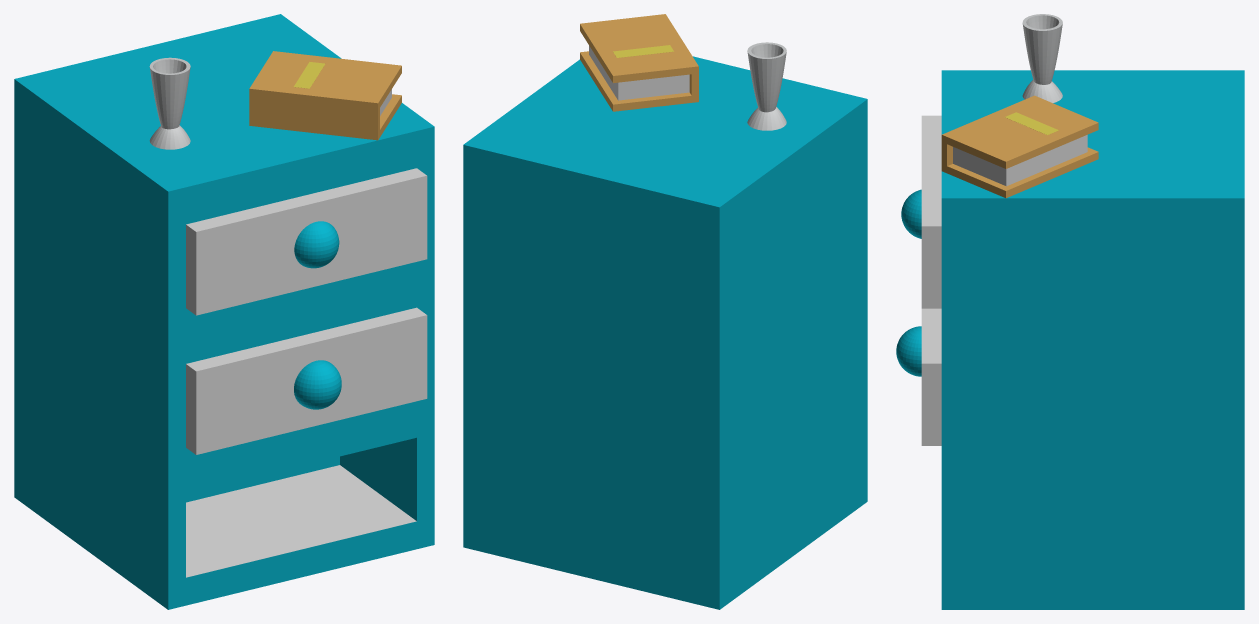
File: anotsonormaltable.glb
3 renders of one model, left to right at view 1: azimuth 30°, elevation 25°; view 2: azimuth 150°, elevation 25°; view 3: azimuth 270°, elevation 25°, orthographic. The views are drawn at different scales.
Parts seen in each view (by area): view 1: Mesh_Mesh_head_geo.001_lambert2SG.001; view 2: Mesh_Mesh_head_geo.001_lambert2SG.001; view 3: Mesh_Mesh_head_geo.001_lambert2SG.001.
Boxes of the visible parts, x1,y1,x2,y2 form: Mesh_Mesh_head_geo.001_lambert2SG.001: (14, 14, 434, 609); Mesh_Mesh_head_geo.001_lambert2SG.001: (463, 14, 867, 609); Mesh_Mesh_head_geo.001_lambert2SG.001: (896, 14, 1244, 609).
Bounding box in the file's own units: 30 × 53.03 × 34.5.
